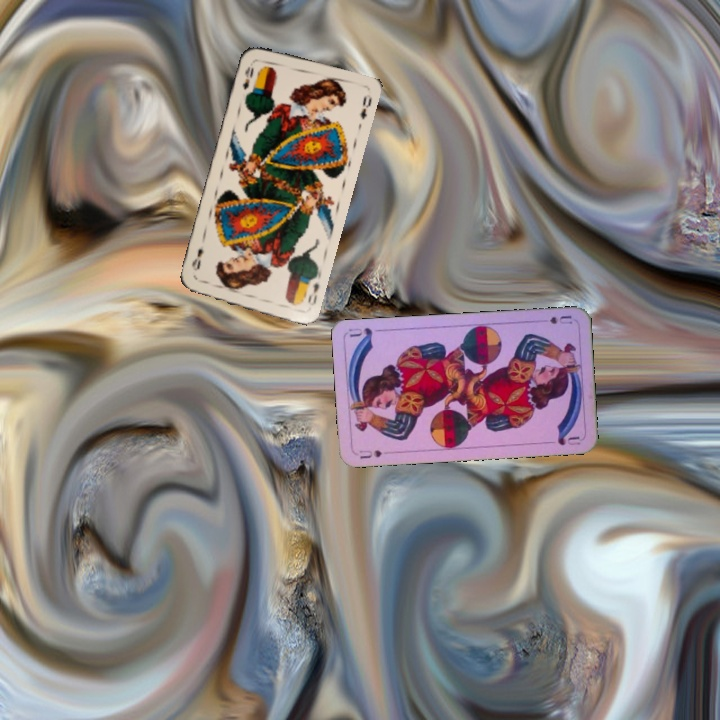EO: (300, 271, 323, 308), (239, 62, 256, 92)
SU: (546, 311, 575, 327), (355, 446, 384, 461)
